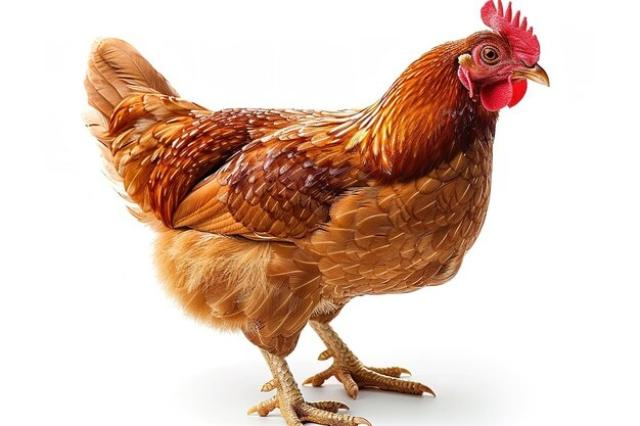Chicken: (84, 0, 550, 425)
